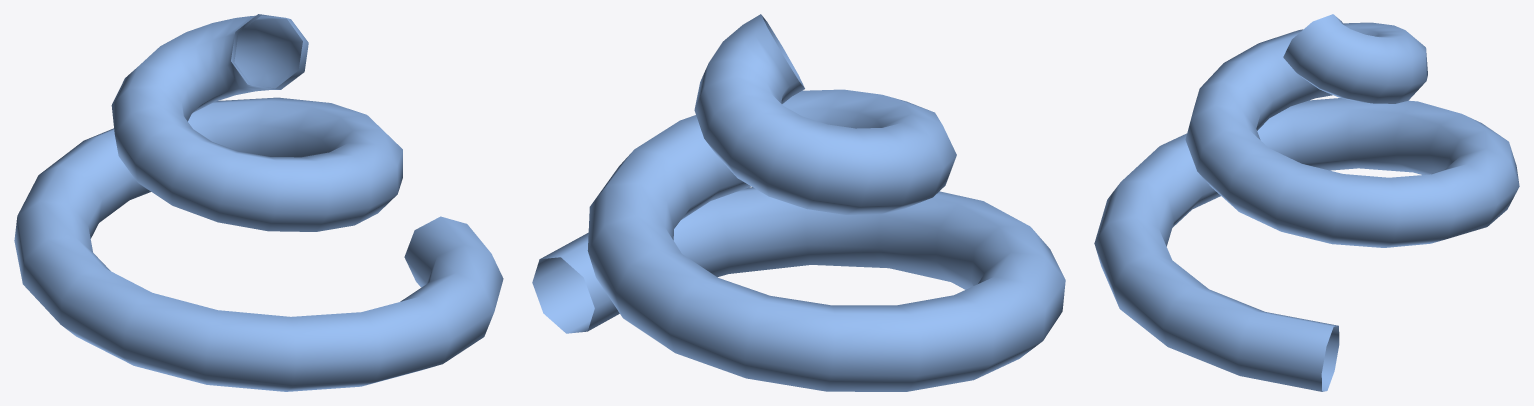
Rendered from cochlea.glb.
3 views of the same model, side by side, from view 1: azimuth 30°, elevation 25°; view 2: azimuth 150°, elevation 25°; view 3: azimuth 270°, elevation 25° (orthographic). The views are drawn at different scales.
Visible parts, largest first — view 1: SAMPLE cochlea; view 2: SAMPLE cochlea; view 3: SAMPLE cochlea.
Part boxes in pixels (x1=…): SAMPLE cochlea: x1=14, y1=14, x2=503, y2=391; SAMPLE cochlea: x1=532, y1=14, x2=1065, y2=391; SAMPLE cochlea: x1=1094, y1=14, x2=1519, y2=391.
Size of the model in its own units: 7.54 by 5.25 by 6.86.
